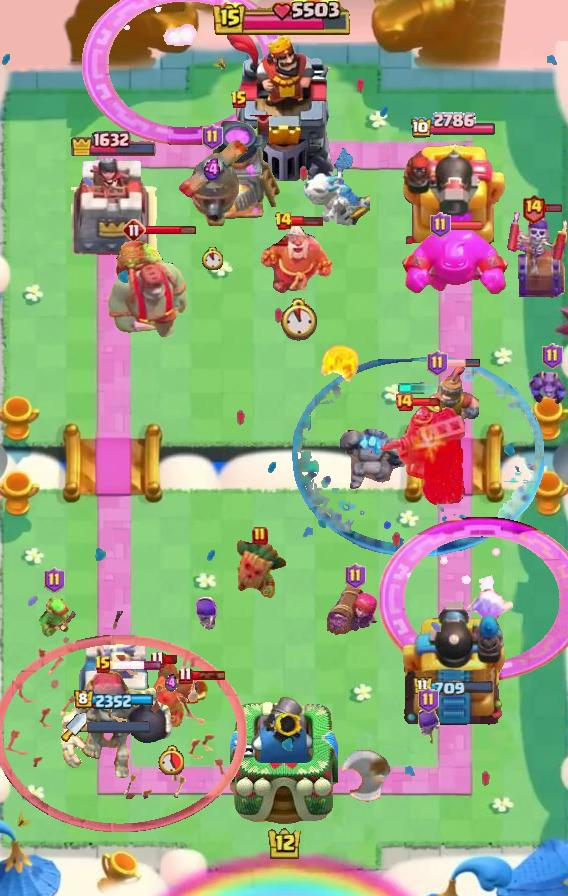bar: (77, 637, 151, 731)
bomber: (188, 679, 208, 701)
clock: (213, 0, 355, 38)
clone: (399, 225, 511, 297)
dark-prince: (168, 138, 256, 226)
earthquake: (417, 366, 479, 442)
electro-giant: (59, 670, 177, 782)
electro-spirit: (201, 158, 222, 182), (165, 675, 177, 693)
elixir: (278, 299, 319, 342), (158, 745, 184, 775), (201, 246, 222, 269)
elixir-collector: (259, 221, 337, 295)
emote: (144, 224, 197, 235), (110, 661, 163, 672), (289, 215, 322, 227), (448, 220, 484, 231), (190, 670, 225, 681), (445, 358, 481, 368), (411, 397, 443, 407), (544, 203, 564, 213), (162, 654, 179, 665)
giant-snowball: (35, 595, 73, 639)
goblin: (413, 706, 443, 746), (193, 595, 218, 631)
goblin-barrel: (142, 660, 200, 730), (232, 536, 288, 600)
hunter: (194, 115, 284, 223)
ice-spirit: (396, 382, 438, 394)
inferno-tower: (369, 404, 465, 506)
king-tower: (223, 31, 345, 181), (230, 692, 338, 826)
king-tower-bar: (87, 721, 151, 733)
knight-evolution: (380, 517, 568, 680), (83, 0, 290, 144)
lava-hound: (105, 235, 191, 347)
mega-minion: (327, 584, 383, 646)
mini-pekka: (300, 146, 370, 228)
mirror: (467, 588, 517, 626)
pad_0: (290, 354, 544, 556)
queen-tower: (71, 156, 157, 256)
royal-delivery: (528, 368, 568, 406)
royal-giant: (338, 749, 394, 803)
selected: (70, 128, 158, 156), (411, 112, 498, 140), (413, 676, 496, 698), (74, 689, 154, 711)
skeleton-barrel: (1, 611, 248, 834)
skeleton-king-bar: (506, 209, 568, 301)
text: (522, 193, 547, 224), (122, 218, 146, 242), (541, 343, 563, 369), (201, 124, 222, 150), (430, 212, 451, 238), (428, 350, 449, 376), (346, 563, 367, 589), (43, 567, 64, 593), (417, 687, 438, 713), (274, 211, 294, 231), (394, 392, 414, 412), (230, 90, 248, 110), (94, 655, 112, 675), (252, 526, 268, 546), (179, 666, 193, 685), (151, 651, 165, 669)
tower-bar: (397, 595, 509, 731), (399, 138, 507, 256)
valkyrie: (316, 343, 362, 391)
valkyrie-evolution: (339, 424, 411, 492)
